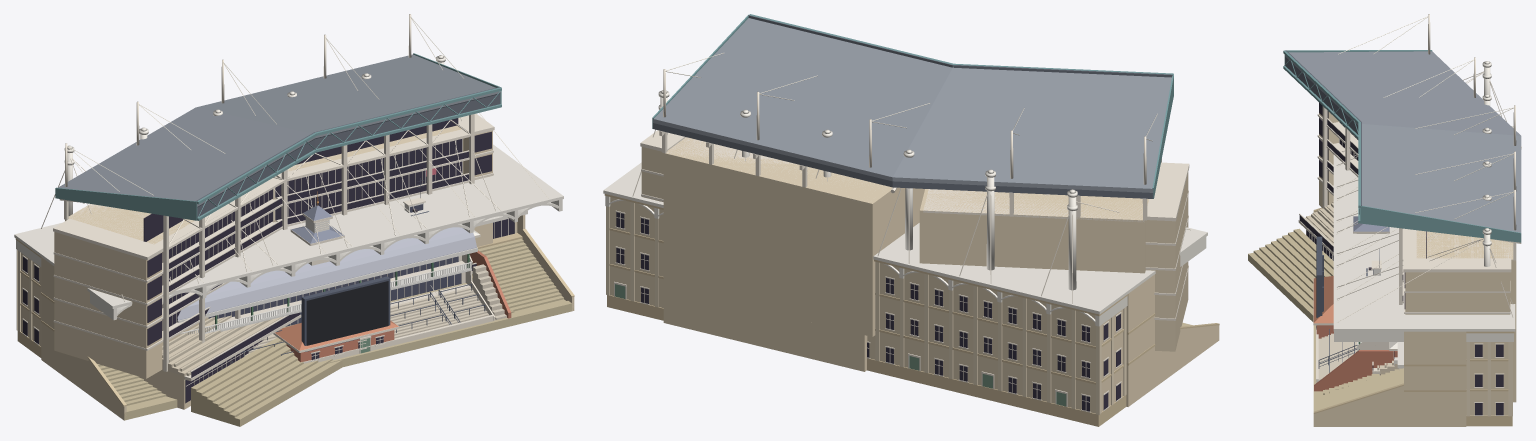
Rendered from gen-ring-l-us_stands.glb.
3 views of the same model, side by side, from view 1: azimuth 30°, elevation 25°; view 2: azimuth 150°, elevation 25°; view 3: azimuth 270°, elevation 25° (orthographic). The views are drawn at different scales.
Visible parts, largest first — view 1: york_stand_north, park_mast_stand, gen_cupola_stand, chester_big_screen, park_shed; view 2: york_stand_north, park_mast_stand; view 3: york_stand_north, park_mast_stand, gen_cupola_stand, park_shed, chester_big_screen.
Boxes of the visible parts, x1,y1,x2,y2 form: york_stand_north: (53, 14, 514, 426); park_mast_stand: (14, 55, 574, 420); gen_cupola_stand: (177, 168, 511, 369); chester_big_screen: (301, 276, 390, 351); park_shed: (273, 320, 399, 362); york_stand_north: (640, 14, 1189, 371); park_mast_stand: (603, 90, 1219, 426); york_stand_north: (1248, 14, 1521, 402); park_mast_stand: (1313, 61, 1515, 426); gen_cupola_stand: (1314, 216, 1397, 391); park_shed: (1313, 276, 1333, 338); chester_big_screen: (1316, 236, 1323, 317).
Size of the model in its own units: 79.6 by 37.48 by 43.86.
